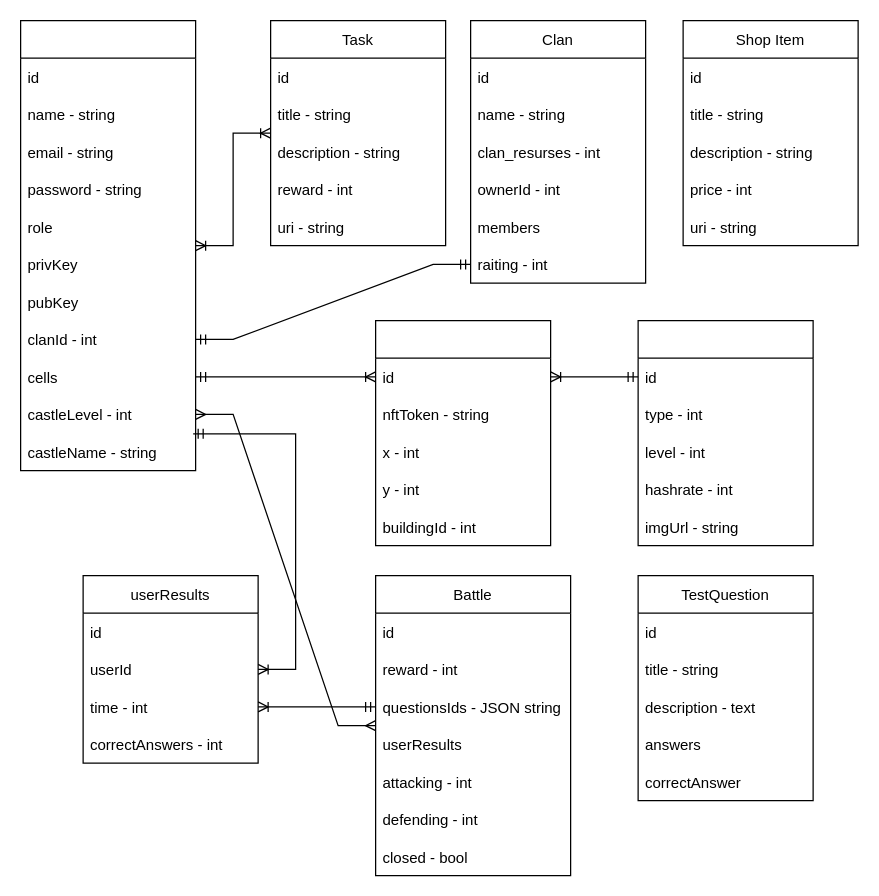
Image size: 879x896. Some labels were removed from this diagram. Here are the shapes that lost their labels. From the top down, the box of each, then its label:
(19, 19, 196, 471): User
(374, 319, 551, 546): Cell
(637, 319, 813, 546): Building
